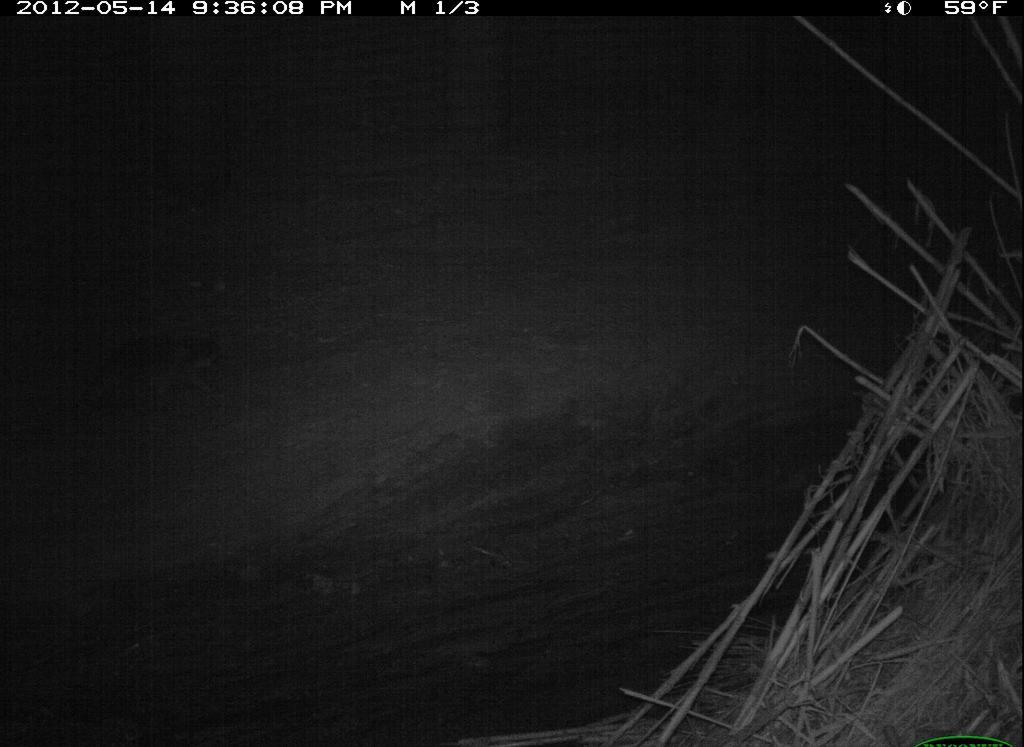raccoon: (75, 312, 245, 436)
